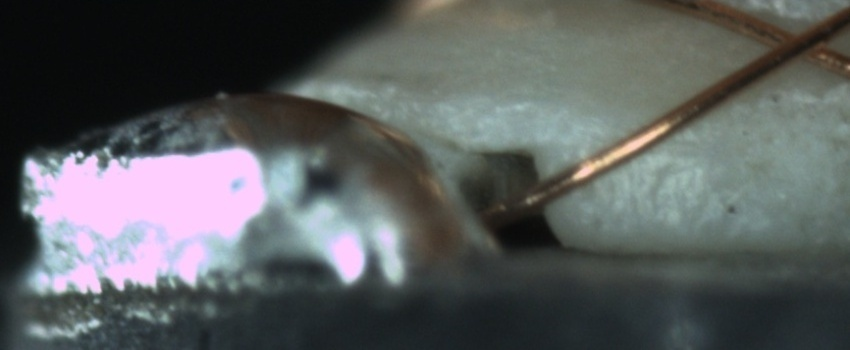CL: (750, 11, 842, 72)
